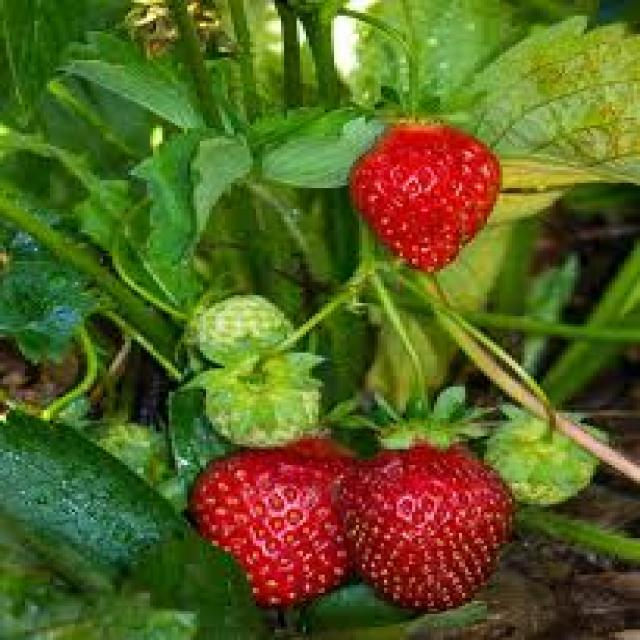strawberry: (336, 438, 522, 612), (175, 451, 364, 603), (357, 127, 522, 275)
